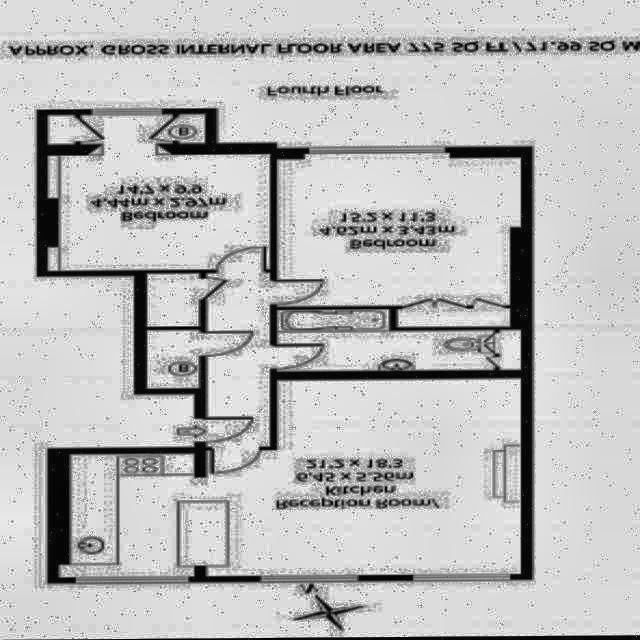room: (58, 378, 523, 578), (276, 158, 522, 329), (60, 155, 270, 271), (146, 272, 272, 448), (276, 309, 521, 372), (47, 114, 206, 145)
